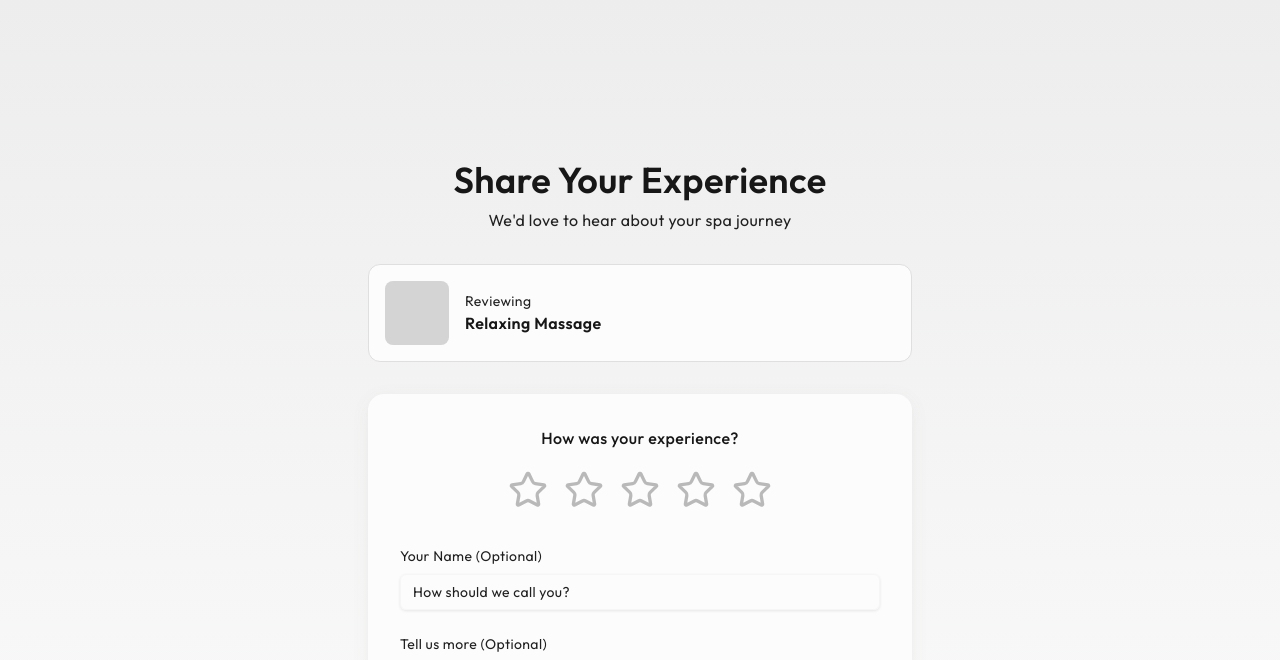
Test: ReviewPageClient › submits review data for a server-provided voucher
Click the button named "beri rating 1 bintang" at [528, 490], box [504,466,552,514]
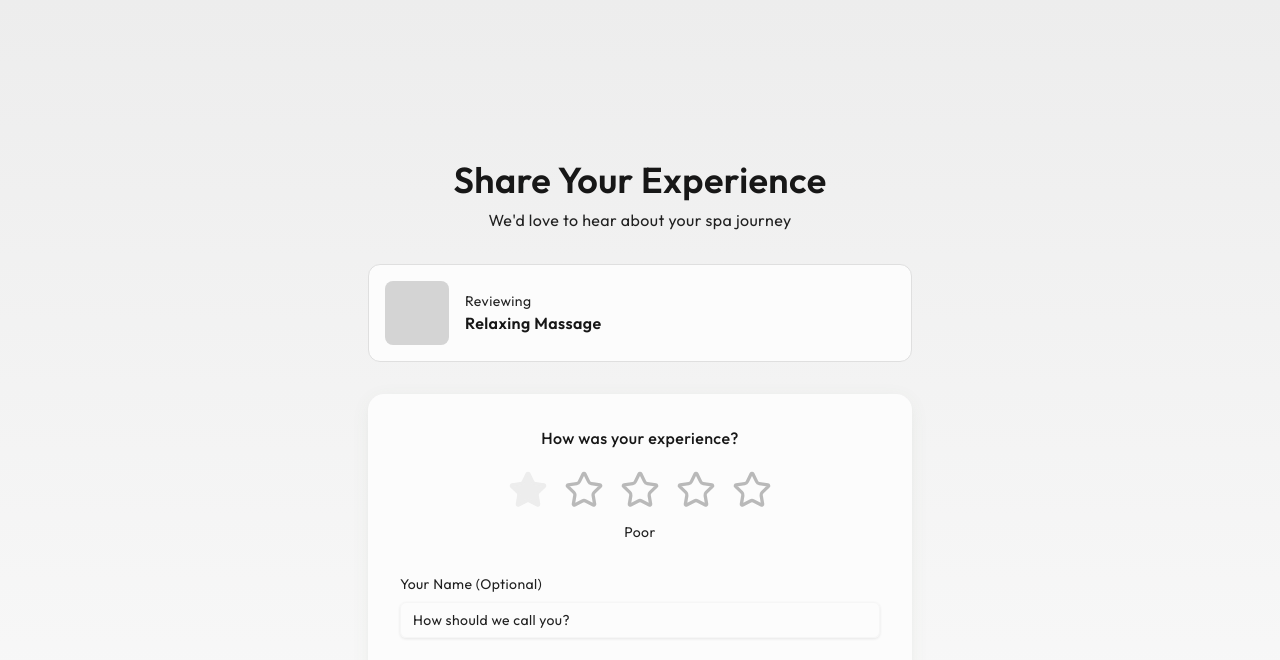
Type "Faiz" into the field with placeholder "How should we call you?" at [640, 620], box [400,602,880,638]
(page scrolled)
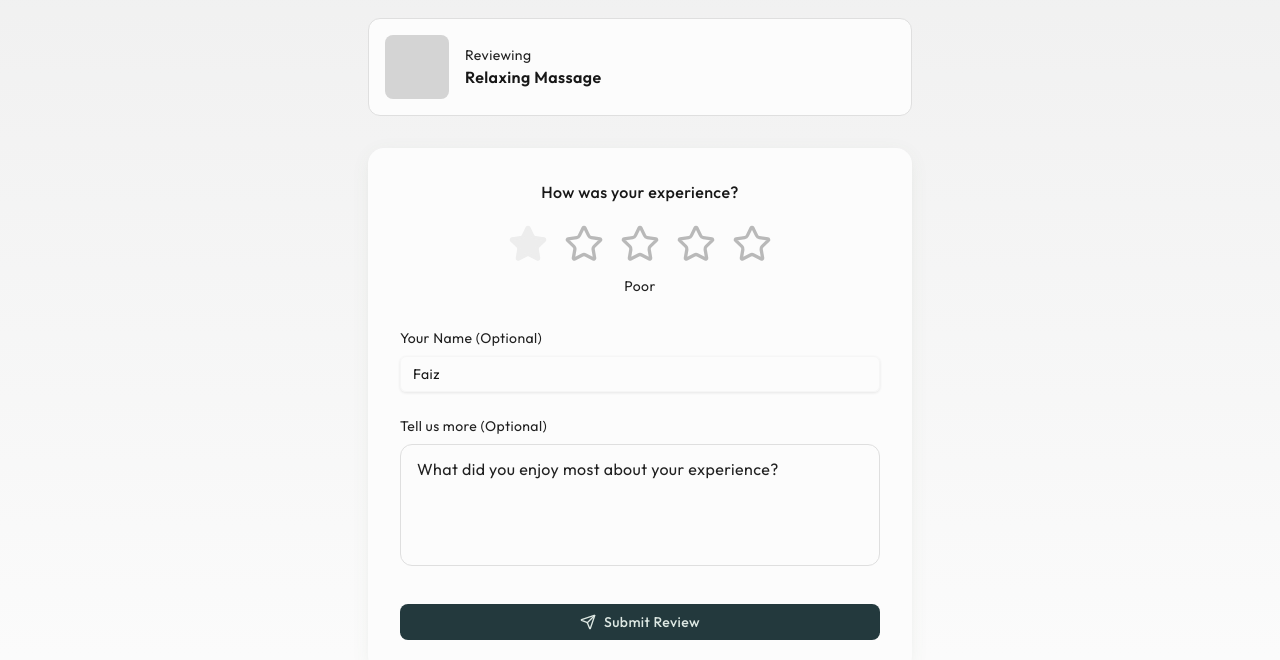
Type "Great treatment" into the text box with placeholder "What did you enjoy most about your experience?" at [640, 505], box [400,444,880,566]
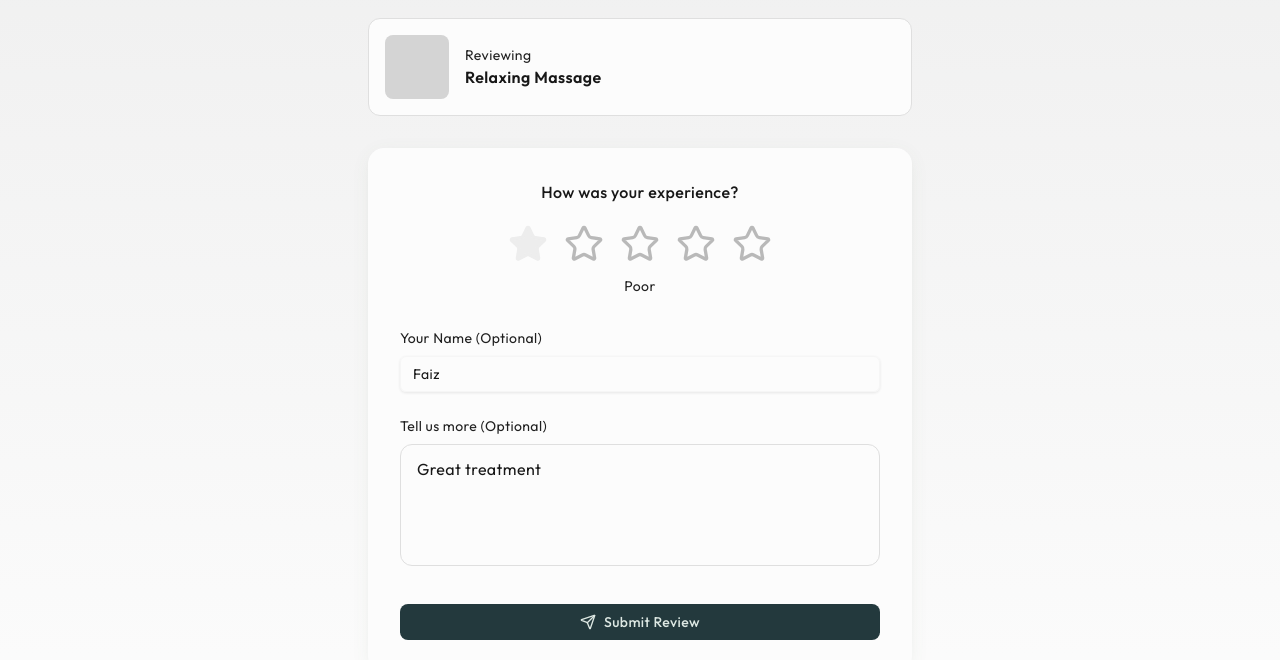
Click the button "Submit Review" at [640, 622], box [400,604,880,640]
(page scrolled)
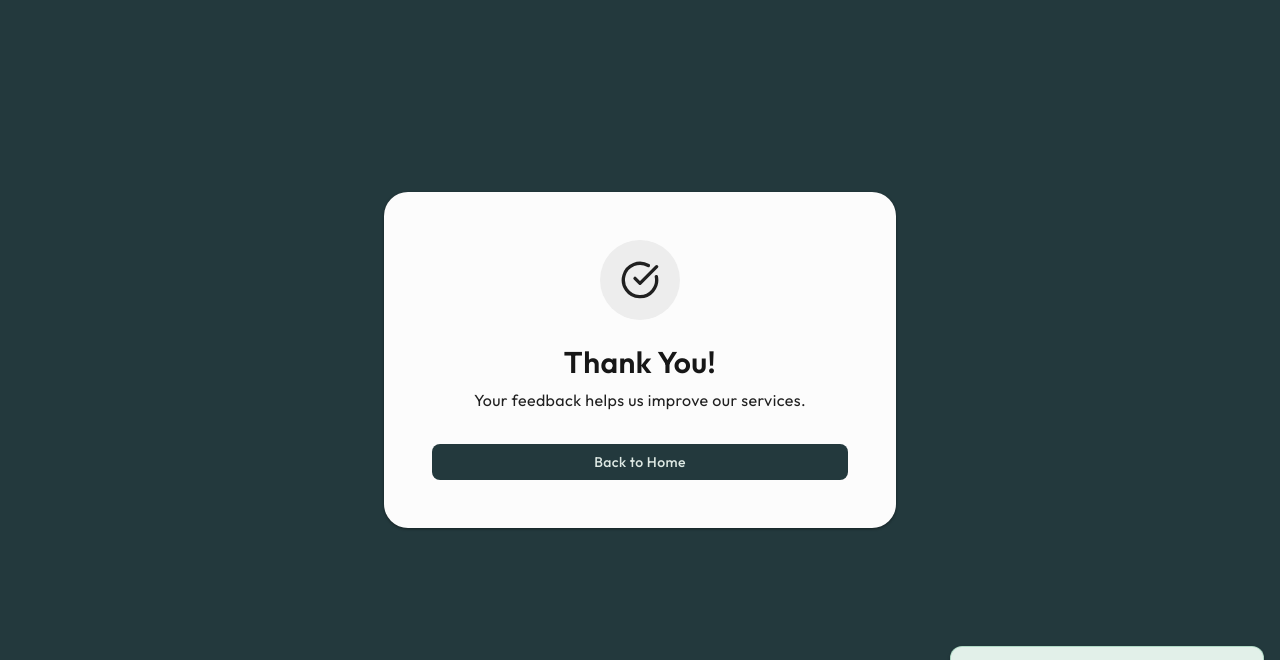
Check: the heading "Thank You!" is shown, box [564,343,716,381]
